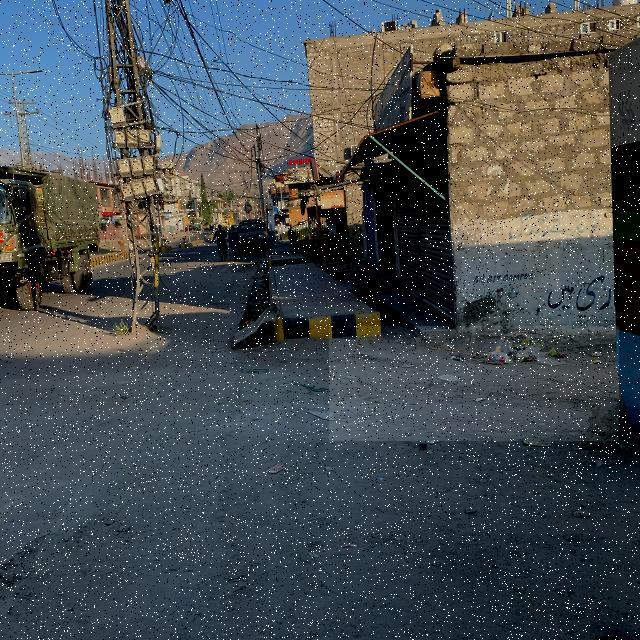right: (329, 326, 619, 441)
